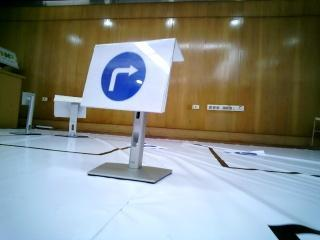right: (87, 44, 162, 109)
